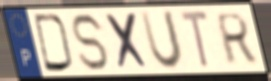D: (31, 12, 76, 74)
R: (215, 11, 259, 67)
S: (71, 11, 111, 73)
T: (178, 9, 211, 72)
U: (138, 9, 186, 73)
X: (103, 11, 152, 72)
